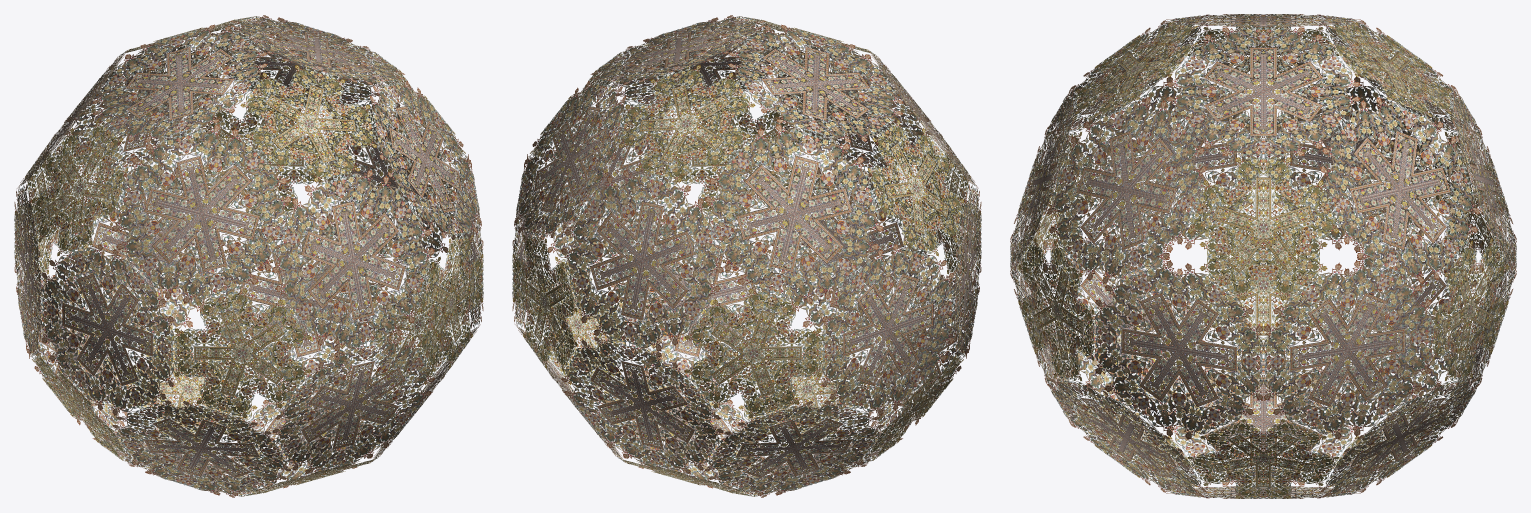
Rendered from TruncatedIcosahedron10.gltf.
3 views of the same model, side by side, from view 1: azimuth 30°, elevation 25°; view 2: azimuth 150°, elevation 25°; view 3: azimuth 270°, elevation 25° (orthographic). The views are drawn at different scales.
Visible parts, largest first — view 1: TruncatedIcosahedron; view 2: TruncatedIcosahedron; view 3: TruncatedIcosahedron.
Part boxes in pixels (x1,y1,x2,y2): TruncatedIcosahedron: (14, 15, 483, 497); TruncatedIcosahedron: (512, 15, 981, 497); TruncatedIcosahedron: (1010, 14, 1516, 498).
Bounding box in the file's own units: 4.85 × 4.85 × 4.85.
Materials: 2 (2 with a texture image).
